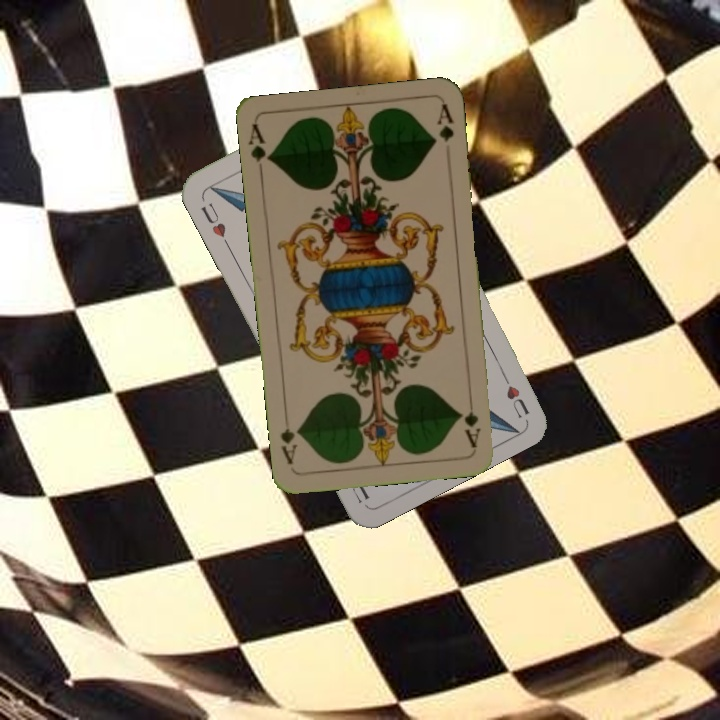GA: (245, 121, 275, 180), (460, 391, 484, 450)
HU: (496, 365, 532, 422), (197, 199, 232, 249)
